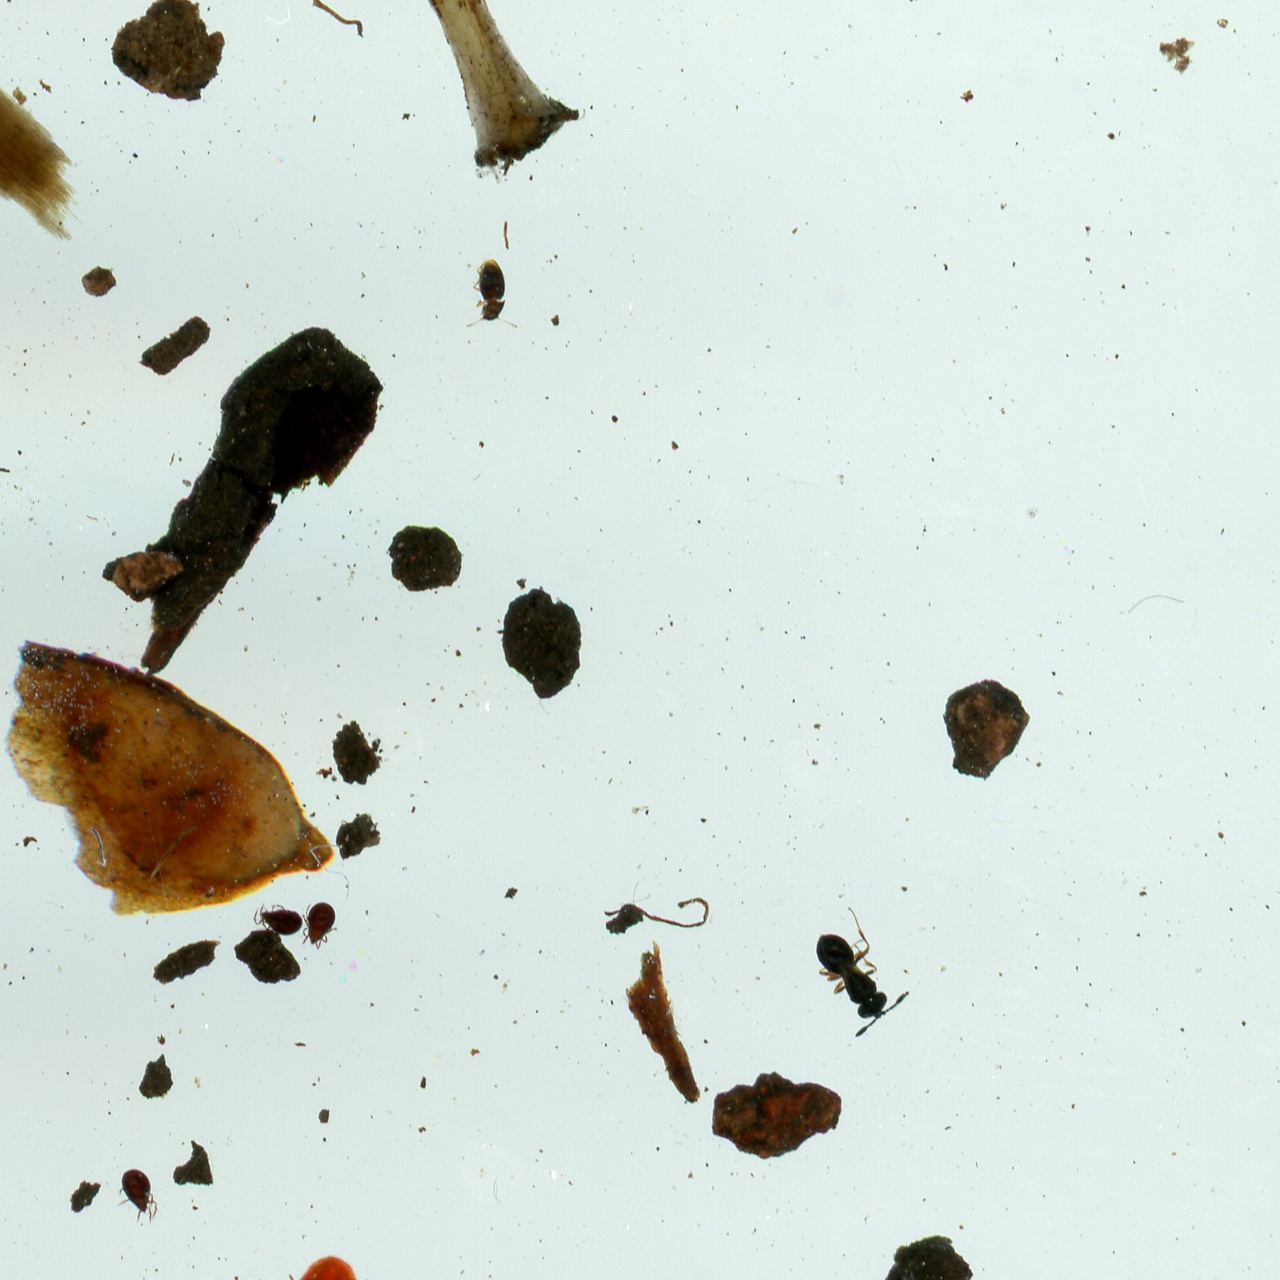arthropod: (778, 888, 938, 1056), (287, 886, 353, 962), (464, 256, 524, 335), (252, 1252, 370, 1280), (113, 1162, 163, 1227), (248, 900, 306, 945)
